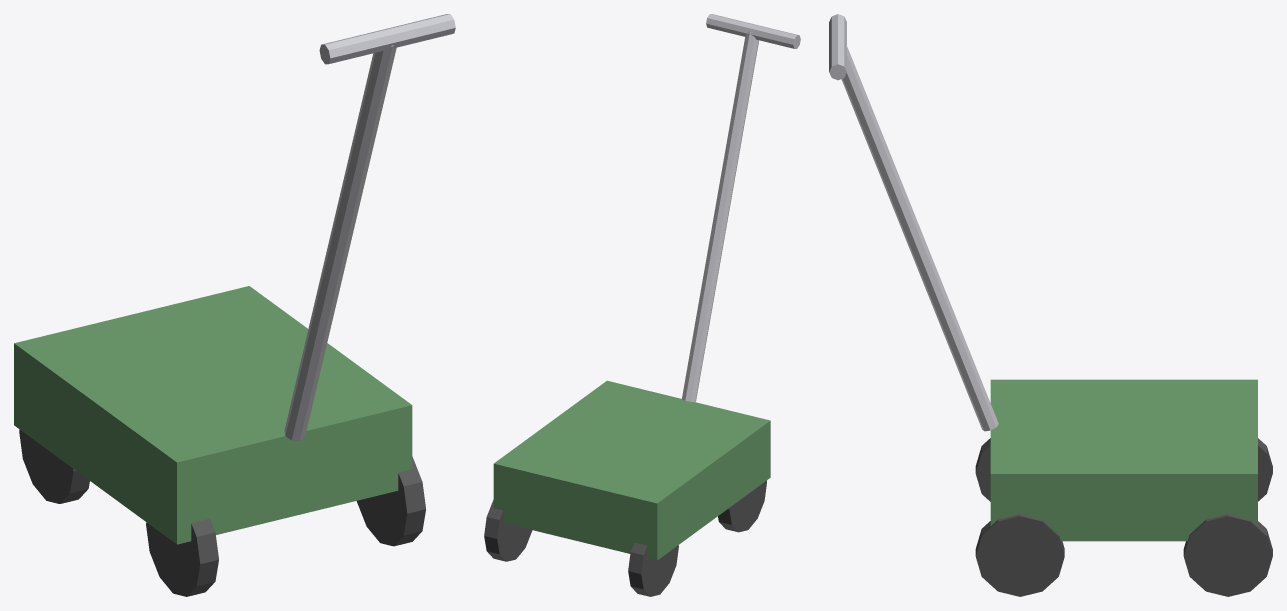
Rendered from mower_push.glb.
3 renders of one model, left to right at view 1: azimuth 30°, elevation 25°; view 2: azimuth 150°, elevation 25°; view 3: azimuth 270°, elevation 25°, orthographic. The views are drawn at different scales.
Parts seen in each view (by area): view 1: PushMower; view 2: PushMower; view 3: PushMower.
Part boxes in pixels (x1,y1,x2,y2): PushMower: (14,14,455,596); PushMower: (484,14,800,596); PushMower: (829,14,1272,596).
Bounding box in the file's own units: 0.153 × 0.3779 × 0.2986.
